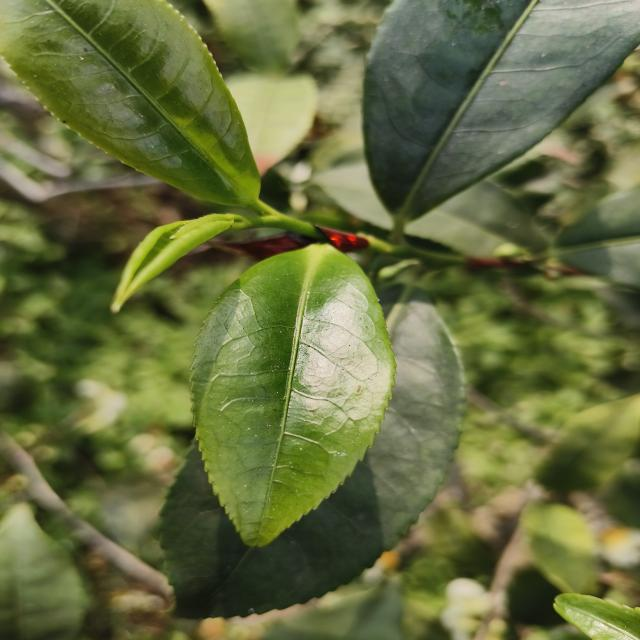Leaf: (160, 289, 463, 617), (191, 244, 394, 546), (363, 0, 640, 219), (0, 0, 260, 207), (111, 214, 234, 312), (0, 503, 87, 640), (405, 182, 548, 258), (536, 394, 640, 491), (226, 73, 318, 175), (553, 187, 640, 287), (203, 0, 300, 73), (521, 502, 596, 594), (313, 162, 394, 230)
